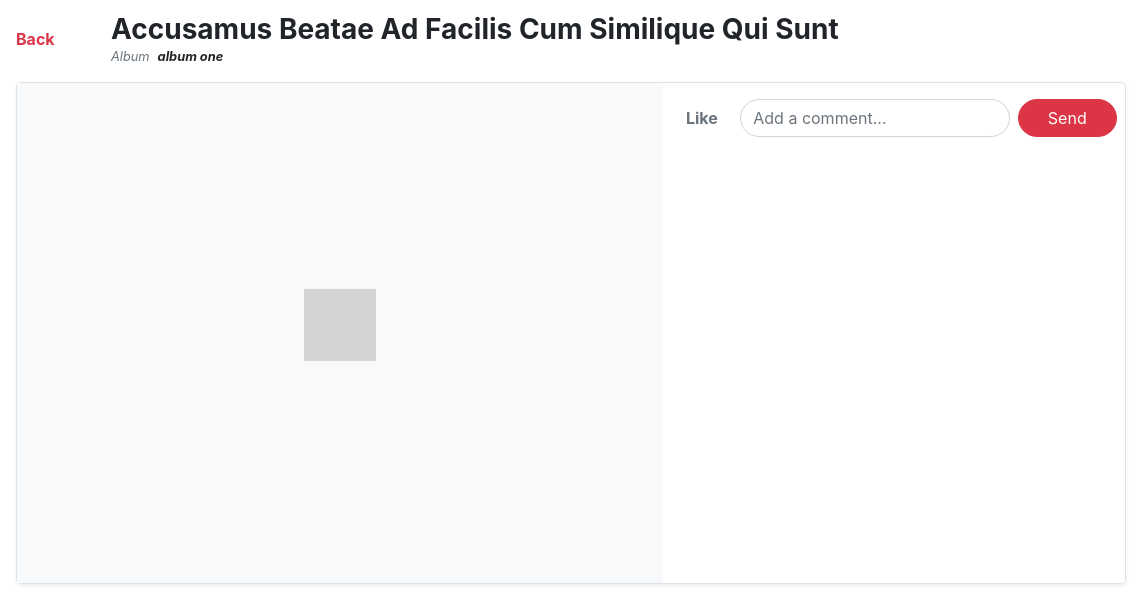
Test case: comment feature / photo detail › click like button
This screenshot has width=1143, height=603.
Click the button "Like" at (702,118), box [686, 106, 718, 130]
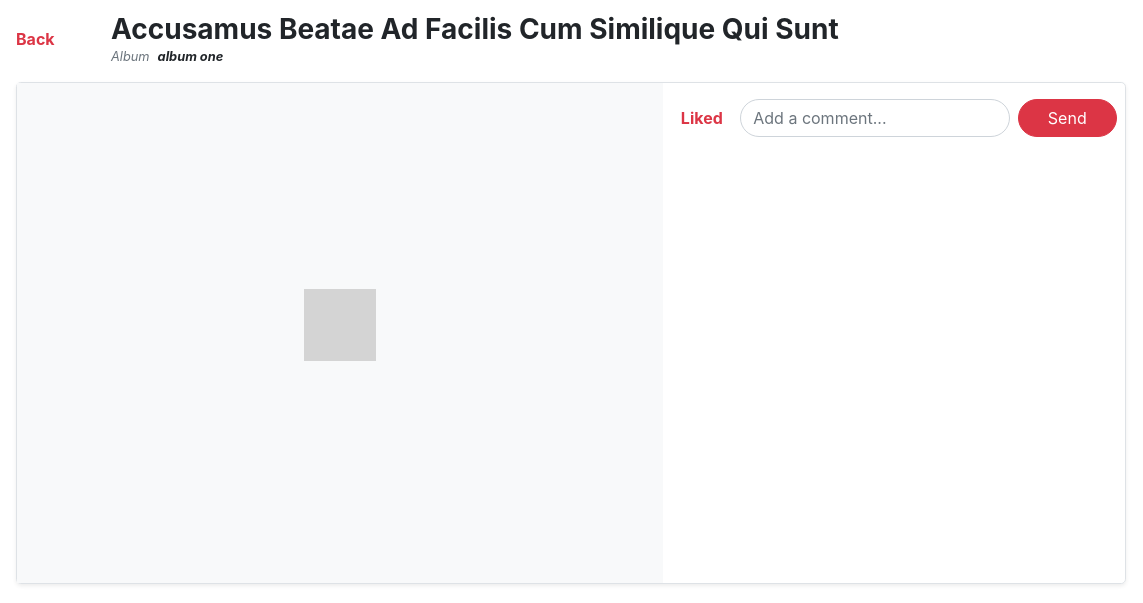
expect the button "Liked" is shown: met, box [681, 106, 723, 130]
